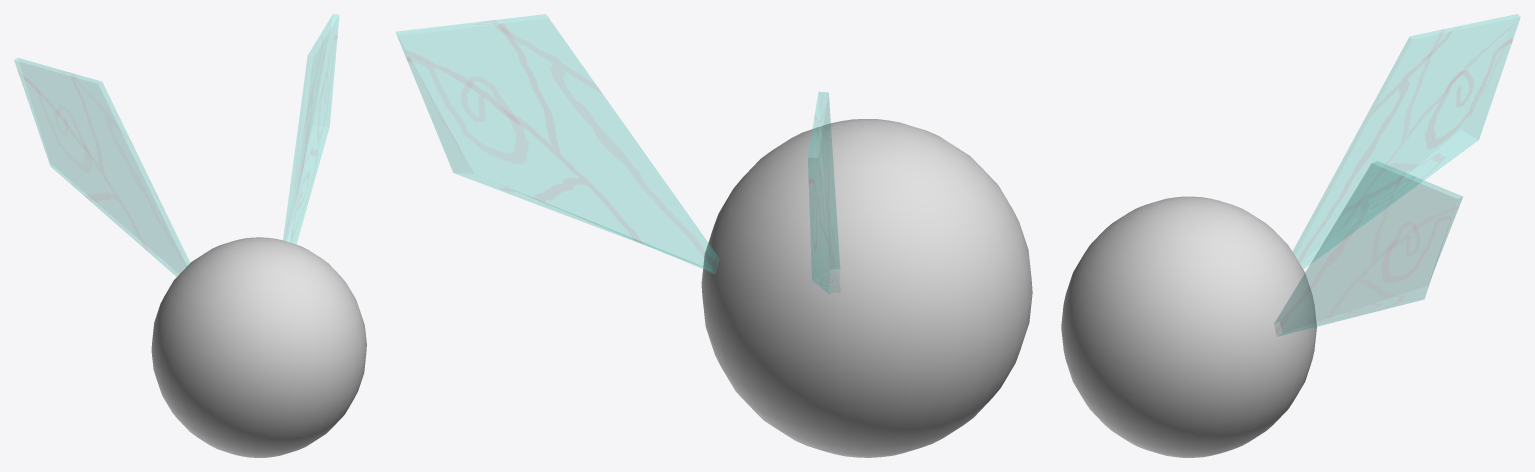
The model's file is animatedfairymodel.fbx.
3 views of the same model, side by side, from view 1: azimuth 30°, elevation 25°; view 2: azimuth 150°, elevation 25°; view 3: azimuth 270°, elevation 25° (orthographic). The views are drawn at different scales.
Parts seen in each view (by area): view 1: fairy, wing1, wing2; view 2: fairy, wing2, wing1; view 3: fairy, wing1, wing2.
Boxes of the visible parts, x1=… form: fairy: x1=151, y1=237, x2=366, y2=457; wing1: x1=14, y1=58, x2=189, y2=276; wing2: x1=283, y1=14, x2=338, y2=244; fairy: x1=701, y1=119, x2=1032, y2=457; wing2: x1=396, y1=14, x2=718, y2=273; wing1: x1=808, y1=92, x2=840, y2=293; fairy: x1=1061, y1=196, x2=1316, y2=457; wing1: x1=1293, y1=14, x2=1520, y2=269; wing2: x1=1274, y1=161, x2=1462, y2=336.
Bounding box in the file's own units: 306 × 305 × 342.
